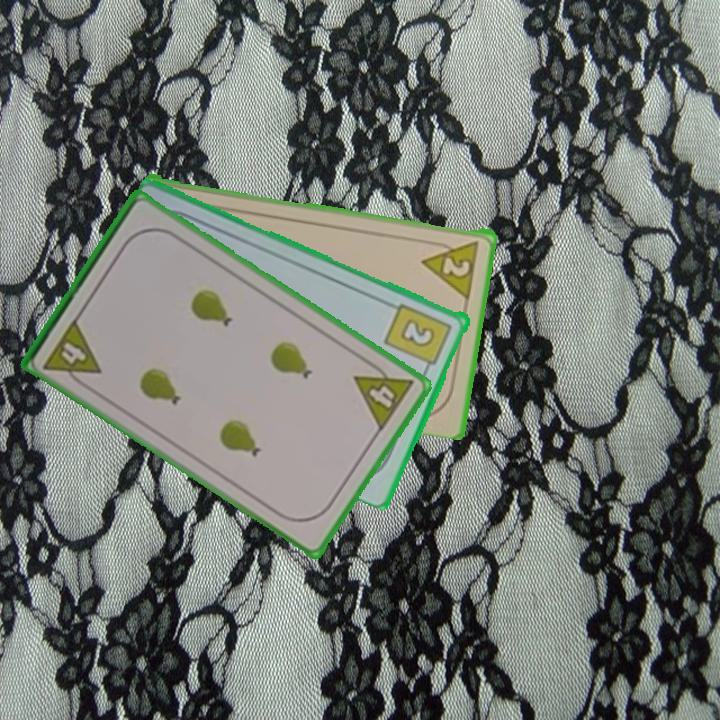2b: (381, 299, 455, 376)
2p: (419, 236, 482, 299)
4p: (350, 355, 417, 434), (40, 314, 104, 392)
